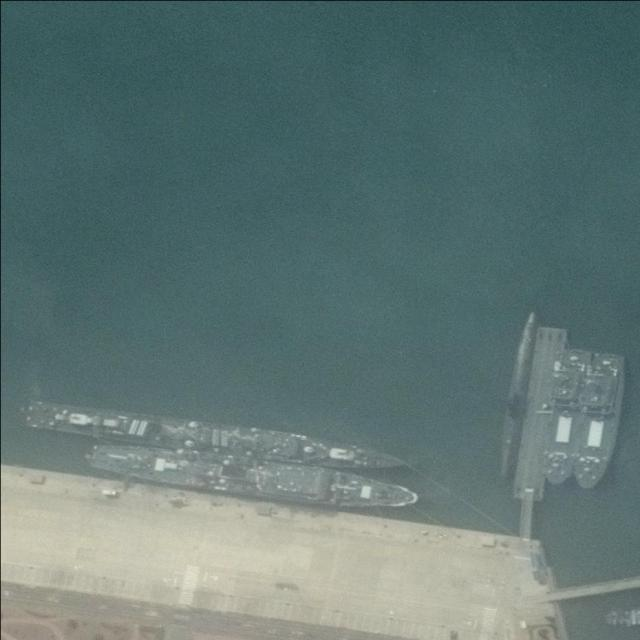Auxiliary Ships: (81, 436, 422, 521)
Destroyer: (24, 398, 411, 479)
Landing: (572, 348, 630, 491), (542, 348, 595, 488)
Submarine: (494, 306, 544, 487)
